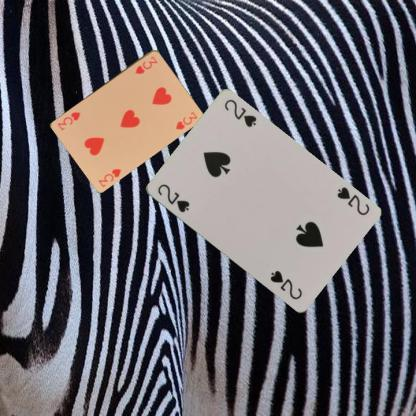2s: (154, 181, 192, 214), (334, 184, 371, 217)
3h: (132, 53, 159, 75), (96, 166, 122, 188)
